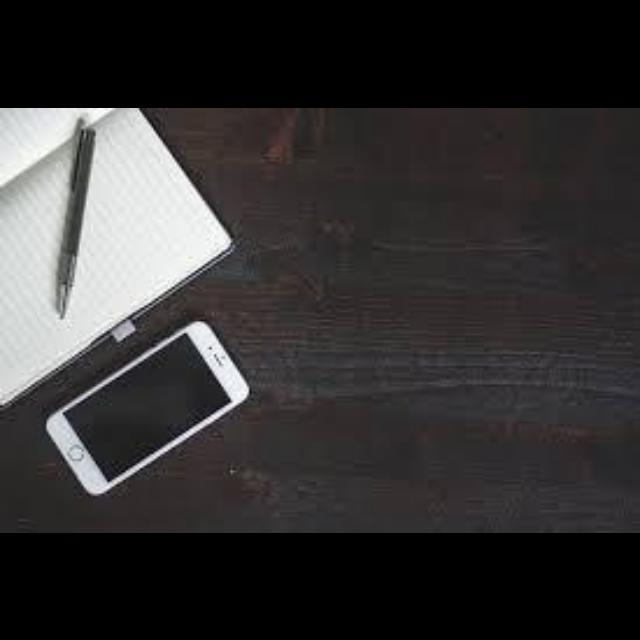phone: (0, 78, 640, 562), (49, 318, 247, 504)
